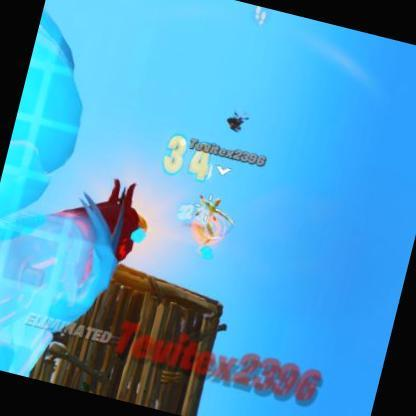person: (186, 189, 235, 258)
